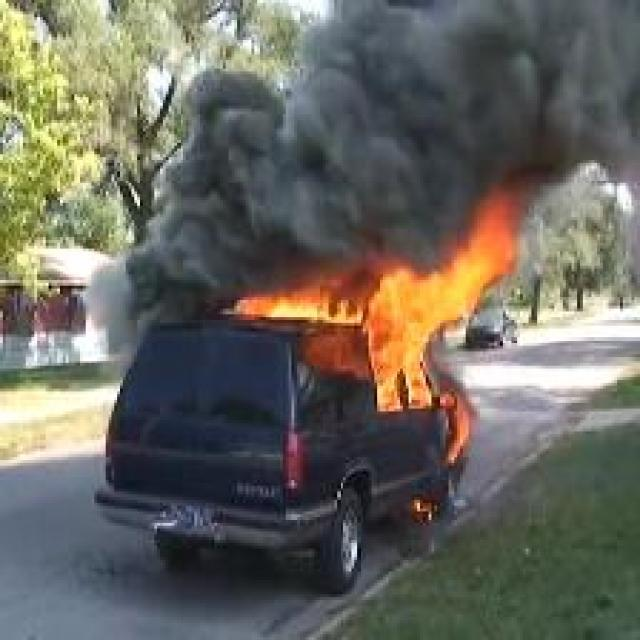Fire: (235, 192, 516, 412), (439, 392, 472, 464)
